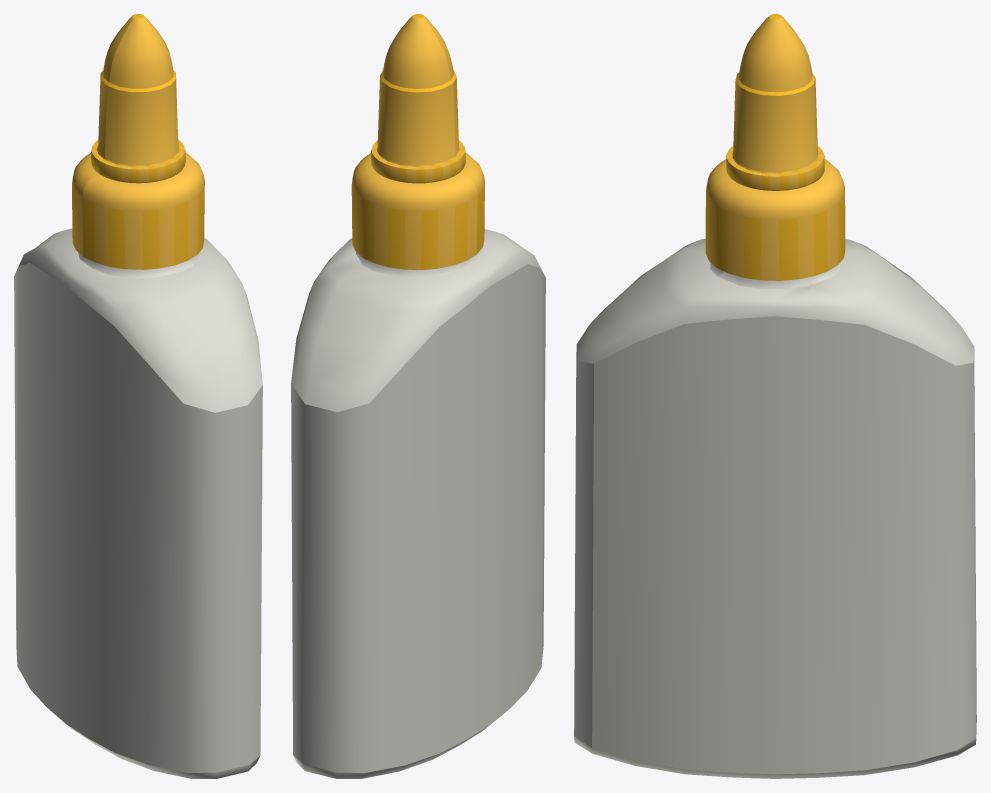
File: 목공풀.fbx
The picture shows the model from 3 angles, left to right: view 1: azimuth 30°, elevation 25°; view 2: azimuth 150°, elevation 25°; view 3: azimuth 270°, elevation 25°; orthographic projection. The views are drawn at different scales.
Parts seen in each view (by area): view 1: glue; view 2: glue; view 3: glue.
Boxes of the visible parts, x1,y1,x2,y2 form: glue: (14, 14, 262, 778); glue: (291, 14, 545, 778); glue: (574, 14, 976, 778).
Bounding box in the file's own units: 299 × 1381 × 687.
